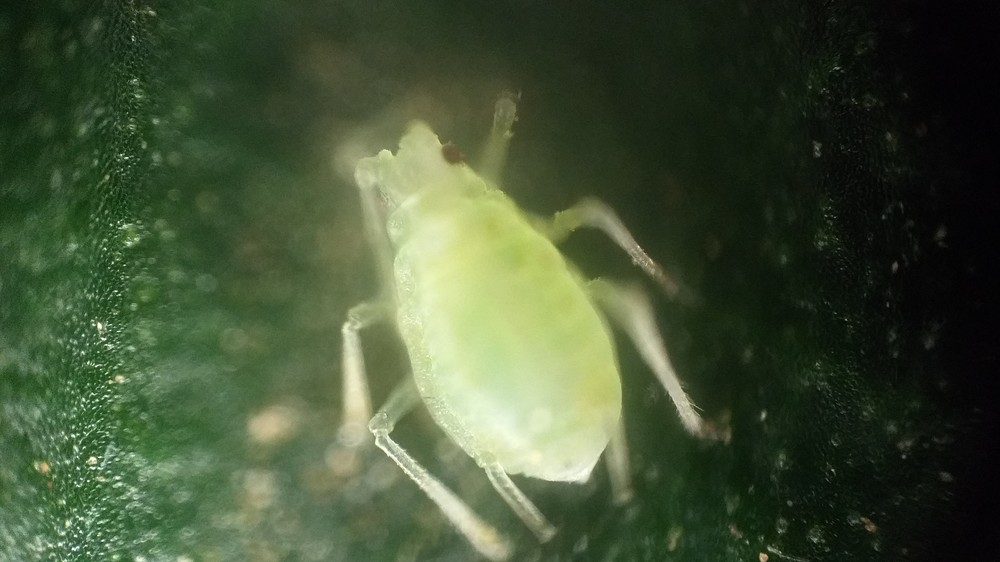Pulgon: (242, 82, 754, 562)
